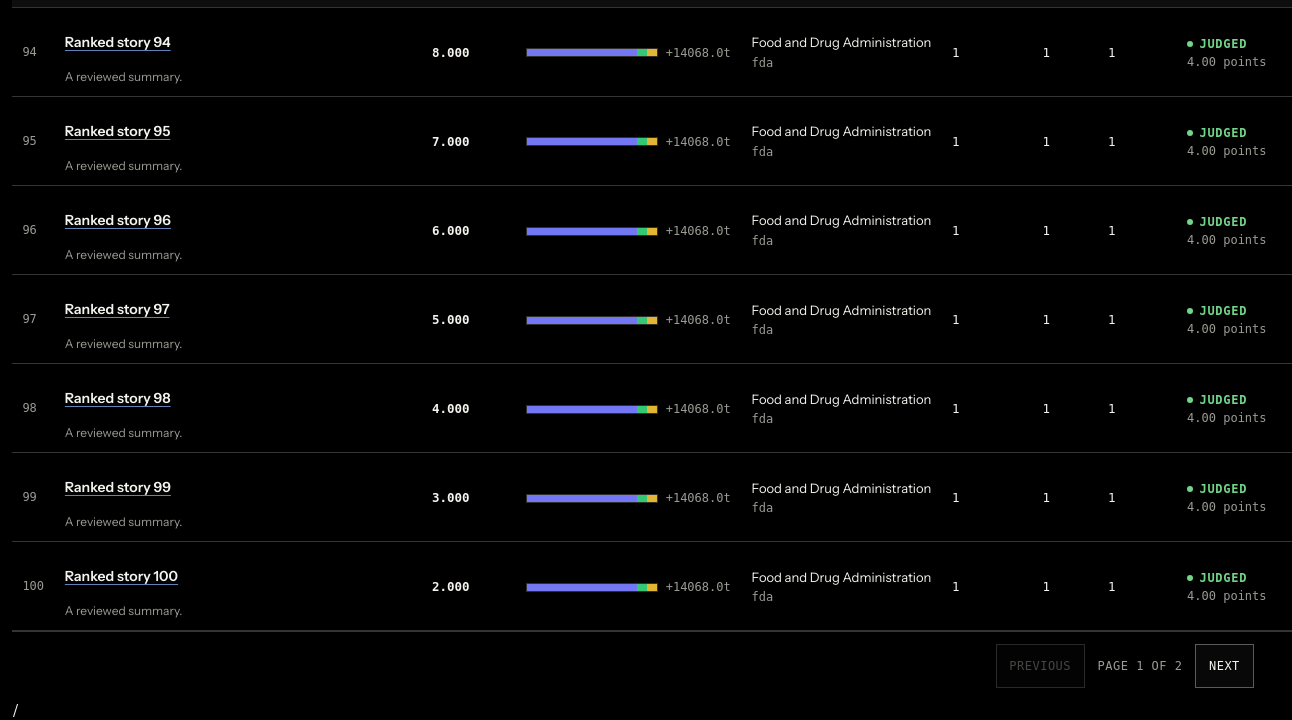
ranking score makeup › paginates the complete ranked set without dropping later stories
(page scrolled)
Expected: the button "Ranked story 100" is shown, [65, 554, 178, 598]
Expected: the text "Ranked story 101" is not shown
Click the button "Next" at {"x": 1224, "y": 666}, box [1195, 644, 1254, 688]
(page scrolled)
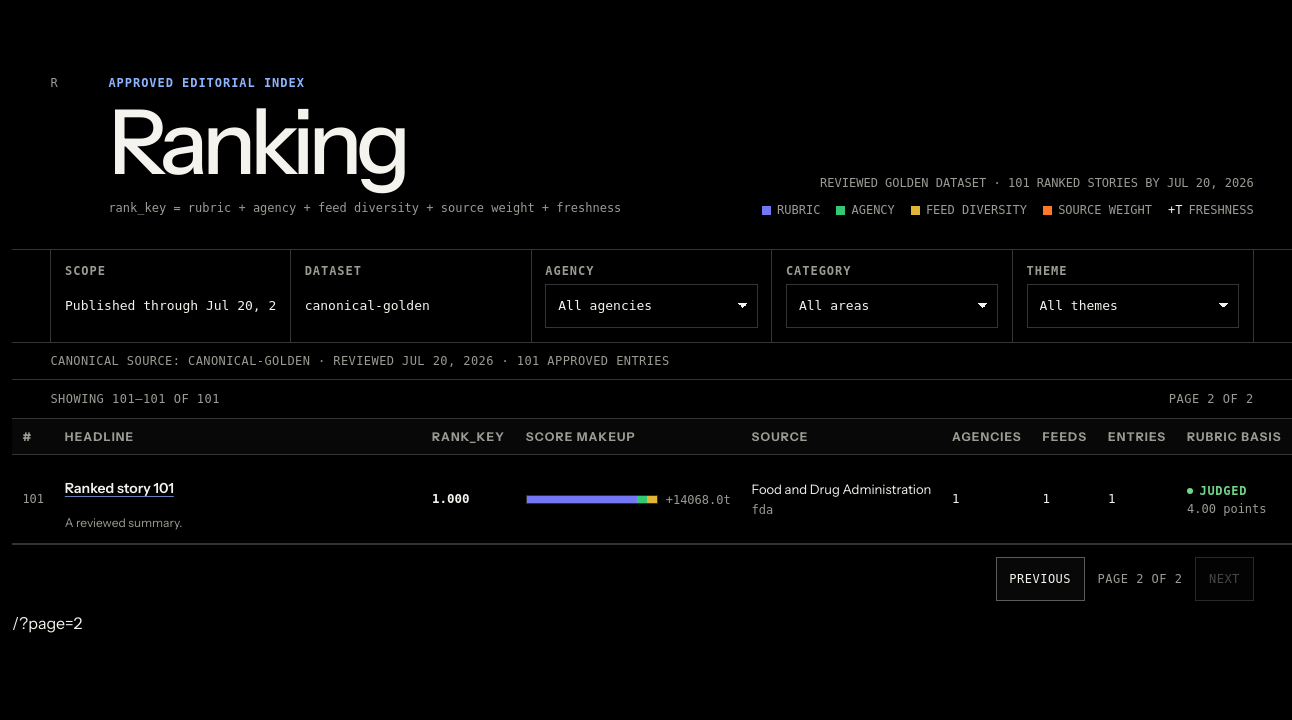
Result: the text "Showing 101–101 of 101" is shown at [50, 392, 220, 406]
Result: the button "Ranked story 101" is shown at [65, 466, 174, 510]
Result: the button "Ranked story 100" is gone
